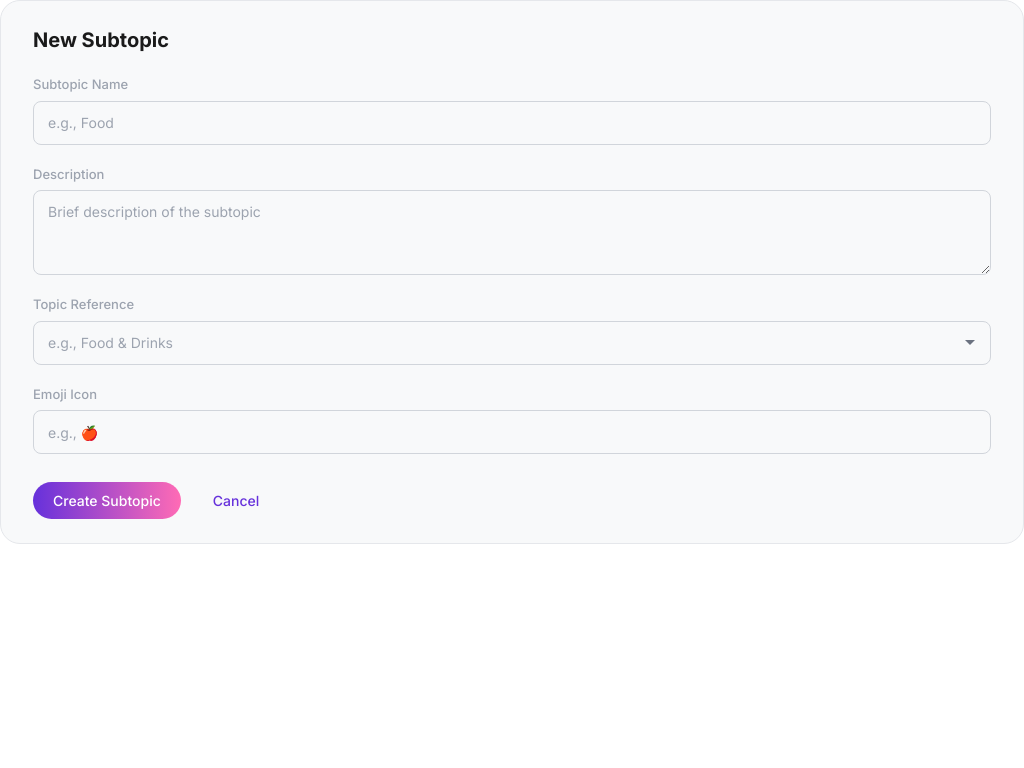
Scenario: AdminSubtopicForm › flags name + topic_id when submitted empty
The image size is (1024, 768).
Click the button "Create Subtopic". click: (107, 500)
box: [33, 482, 181, 519]
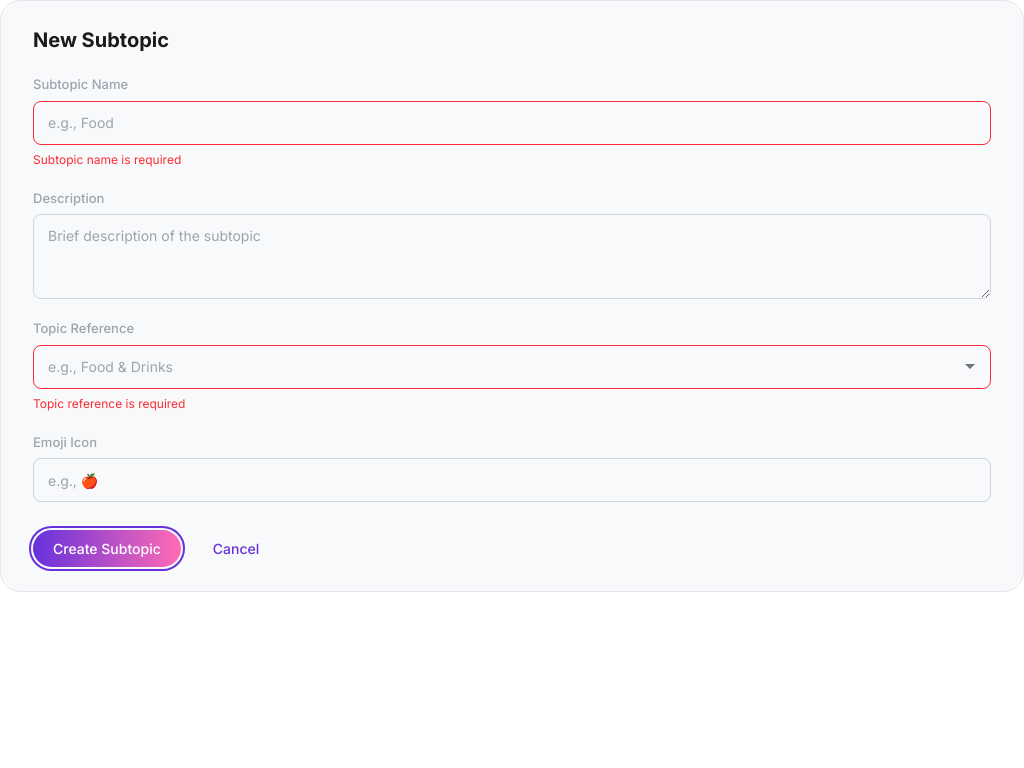
Check: the text "Subtopic name is required" is shown, box [33, 152, 181, 166]
Check: the text "Topic reference is required" is shown, box [33, 396, 186, 410]
